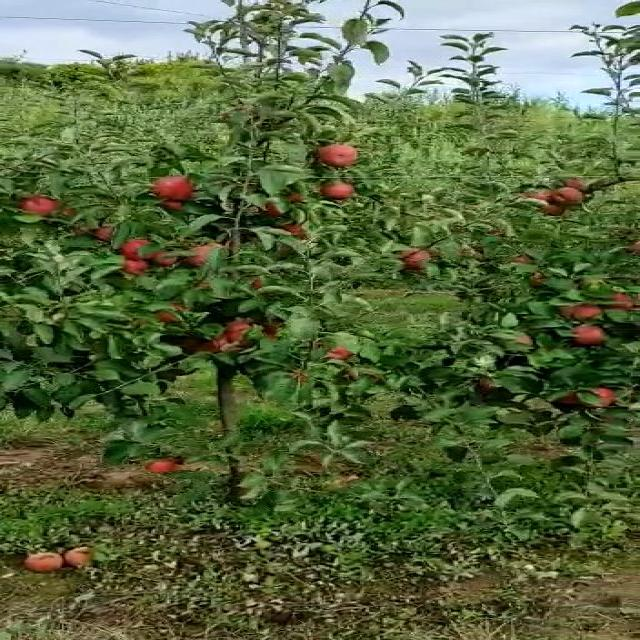100-_ripeness: (182, 242, 231, 271), (149, 177, 200, 202), (569, 387, 616, 412), (313, 143, 360, 166), (396, 248, 442, 271), (564, 324, 611, 346), (313, 180, 356, 201), (553, 187, 591, 207), (116, 240, 156, 258), (226, 322, 256, 346), (162, 306, 196, 326), (573, 304, 607, 324), (22, 197, 53, 216), (538, 196, 569, 215), (146, 456, 178, 474), (122, 257, 147, 277), (316, 344, 353, 357)
